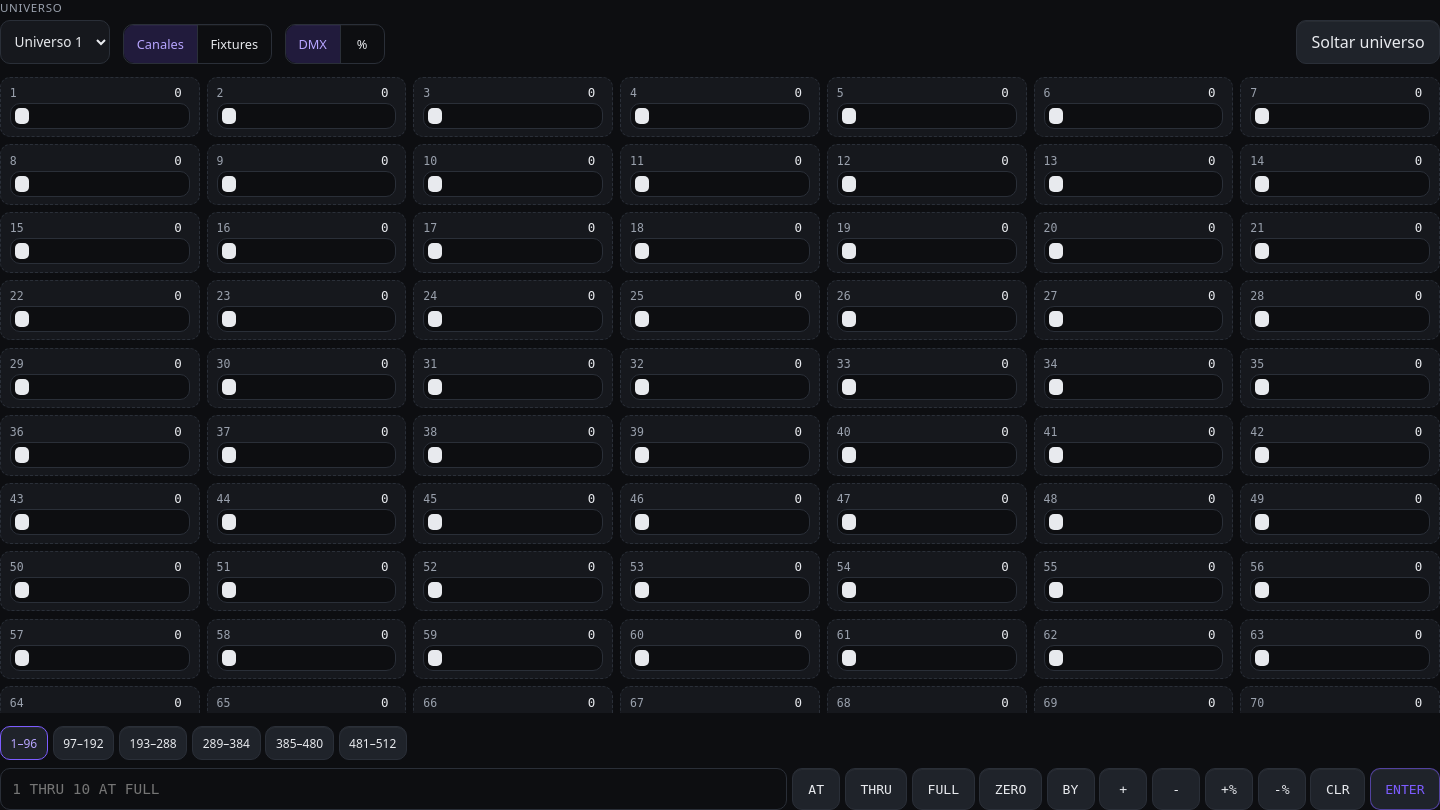
the keypad › sends the order through the daemon parser, uppercased as typed
In the field named "Orden de teclado": (394, 789) 0,768 -> 787,809, type "1 at 50"
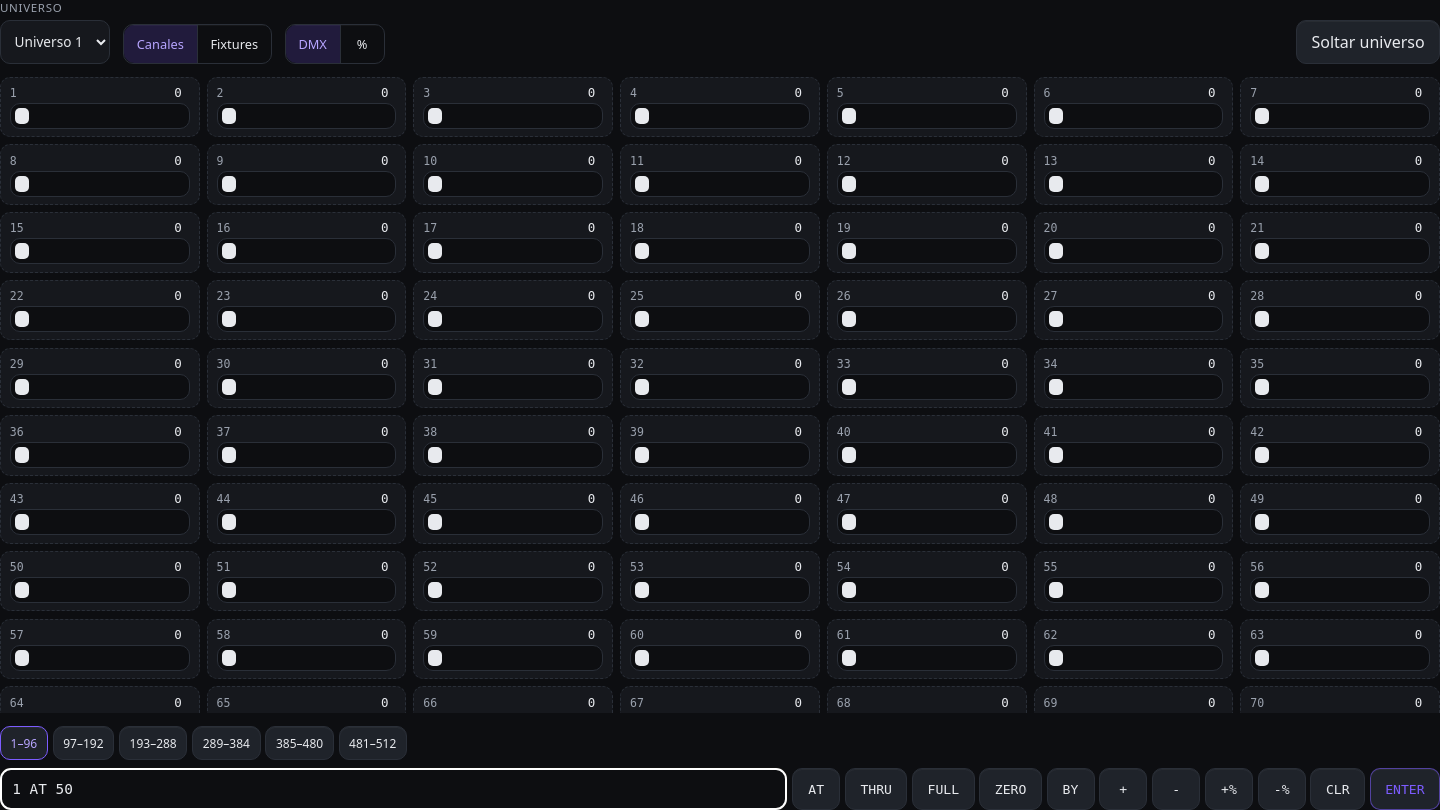
Press Enter
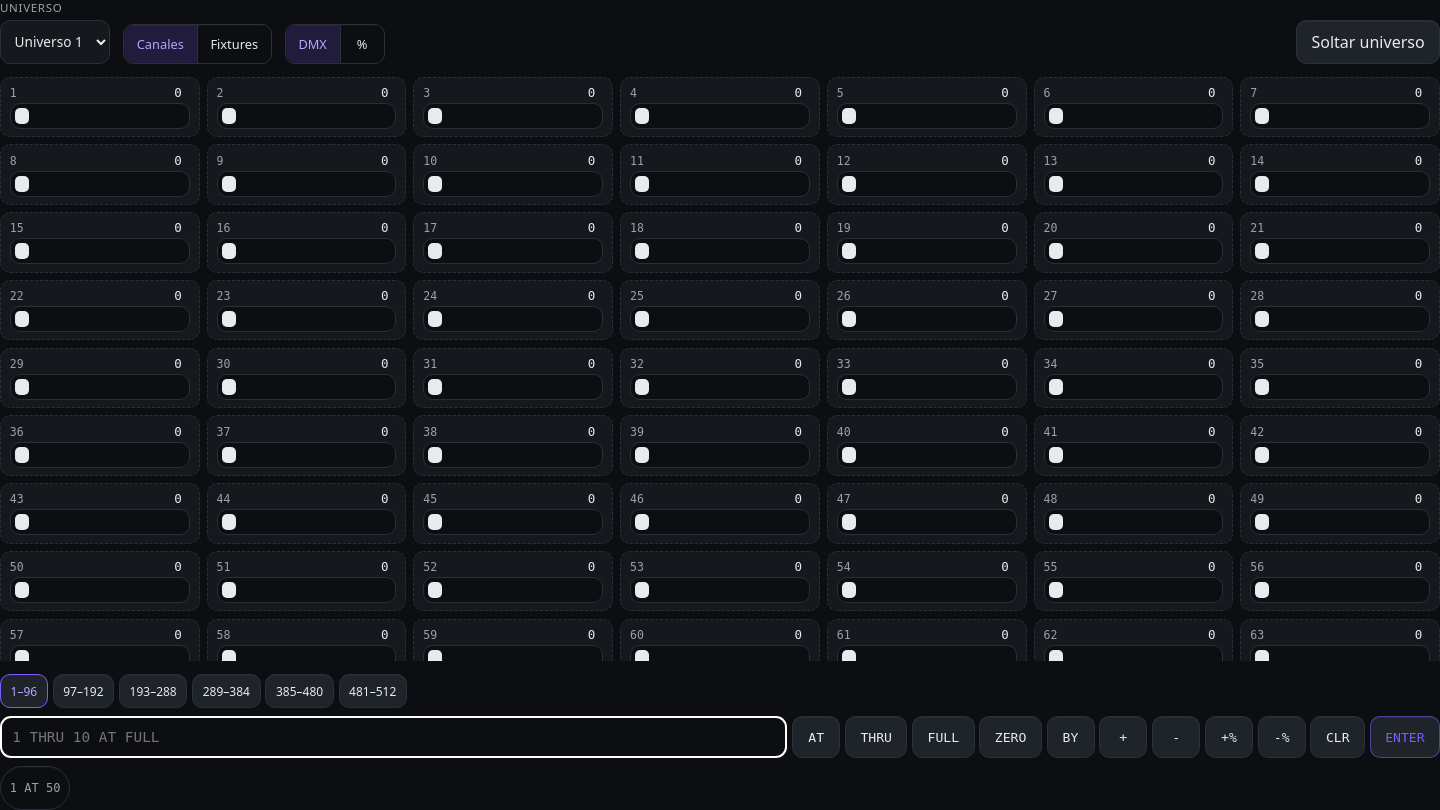
Check: the field named "Orden de teclado" is empty, box 0,716 -> 787,758
Check: the button "1 AT 50" is shown, box 0,766 -> 70,809
